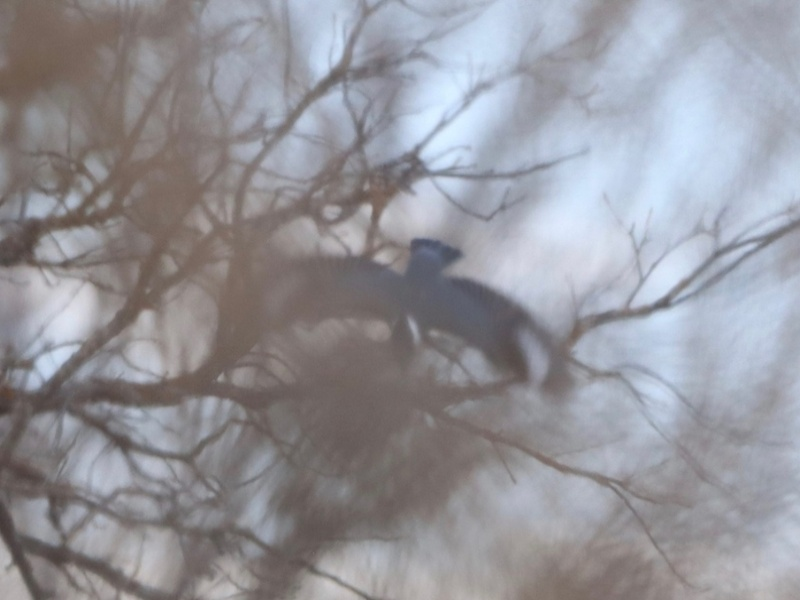kingfisher: (271, 239, 542, 384)
